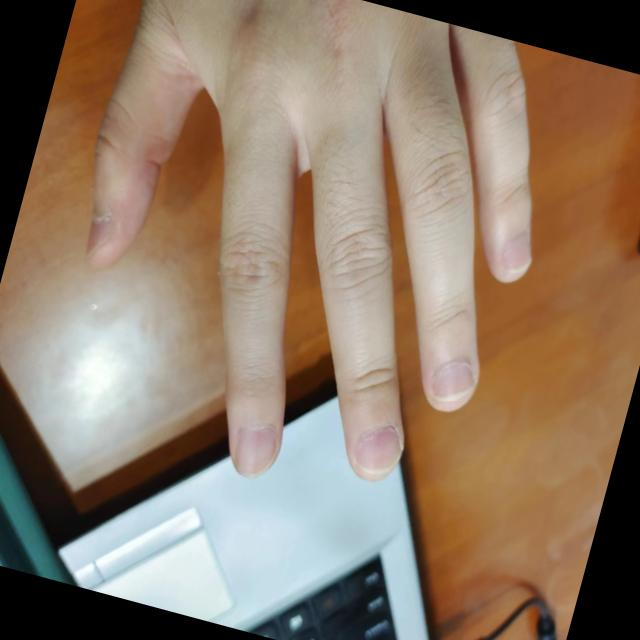Nail: (355, 425, 400, 472), (234, 425, 275, 476), (433, 359, 471, 398), (85, 216, 111, 256), (505, 232, 529, 272)
